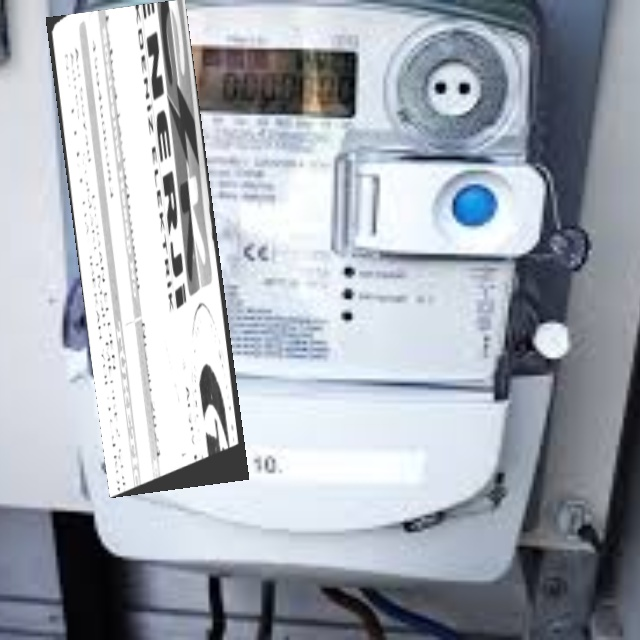electricity-bill: (45, 0, 248, 497)
